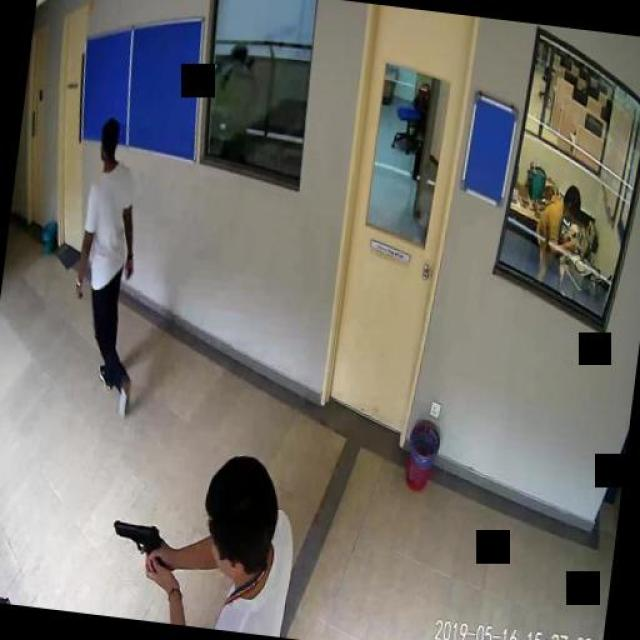gun: (108, 516, 168, 576)
